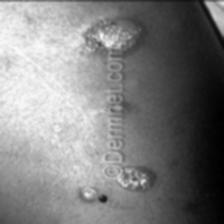Unclassified: (76, 180, 154, 203), (83, 14, 144, 43), (124, 158, 154, 190), (44, 118, 68, 136), (80, 42, 104, 58)
